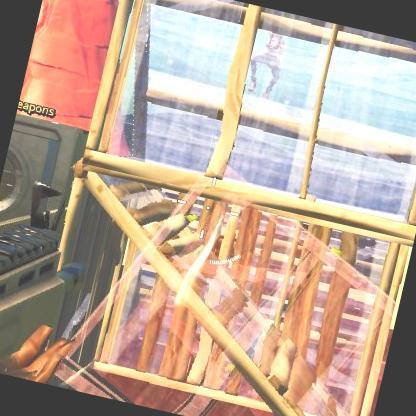person: (244, 10, 300, 108)
